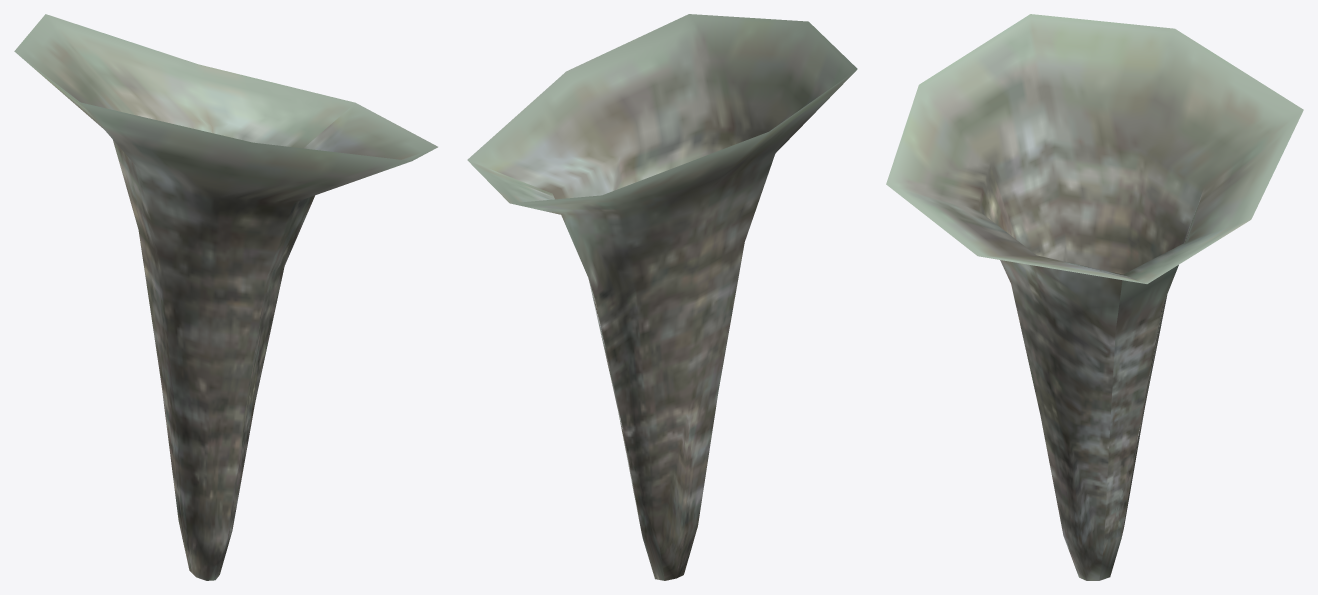
File: TROLLHOLE02_PS-SECRETSTALAG03.fbx
3 renders of one model, left to right at view 1: azimuth 30°, elevation 25°; view 2: azimuth 150°, elevation 25°; view 3: azimuth 270°, elevation 25°, orthographic. The views are drawn at different scales.
Parts seen in each view (by area): view 1: TROLLHOLE02_PS-SECRETSTALAG03; view 2: TROLLHOLE02_PS-SECRETSTALAG03; view 3: TROLLHOLE02_PS-SECRETSTALAG03.
Boxes of the visible parts, x1,y1,x2,y2 form: TROLLHOLE02_PS-SECRETSTALAG03: [14, 14, 437, 580]; TROLLHOLE02_PS-SECRETSTALAG03: [467, 14, 857, 580]; TROLLHOLE02_PS-SECRETSTALAG03: [886, 14, 1303, 580].
Size of the model in its own units: 20957 by 31751 by 24435.
1 material, 1 textured.
